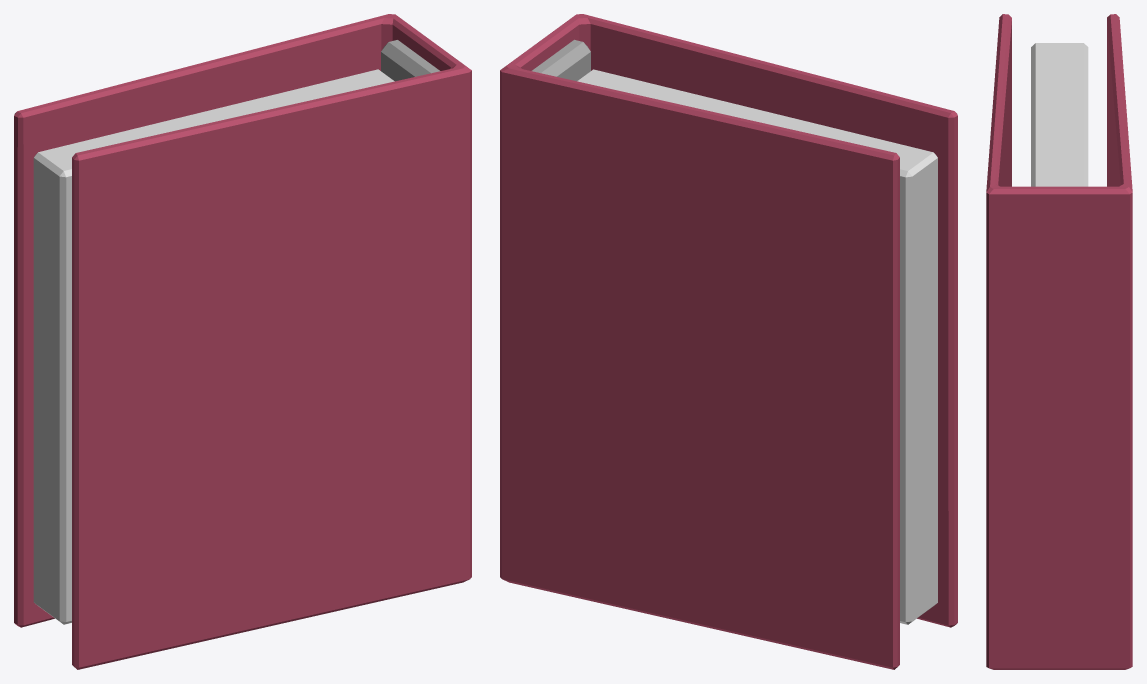
The model's file is SM_workbook.fbx.
3 views of the same model, side by side, from view 1: azimuth 30°, elevation 25°; view 2: azimuth 150°, elevation 25°; view 3: azimuth 270°, elevation 25° (orthographic). The views are drawn at different scales.
Visible parts, largest first — view 1: SM_workbook; view 2: SM_workbook; view 3: SM_workbook.
Part boxes in pixels (x1,y1,x2,y2): SM_workbook: [14, 14, 471, 669]; SM_workbook: [500, 14, 957, 669]; SM_workbook: [986, 14, 1132, 669].
Size of the model in its own units: 35.58 by 44.83 by 12.37.
